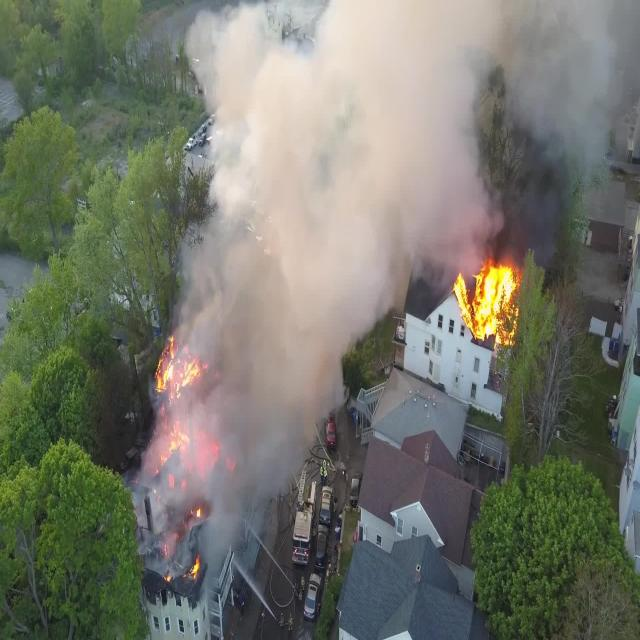Fire: (152, 337, 236, 493), (454, 258, 518, 353), (162, 500, 207, 596)
Smoke: (143, 0, 637, 550)
